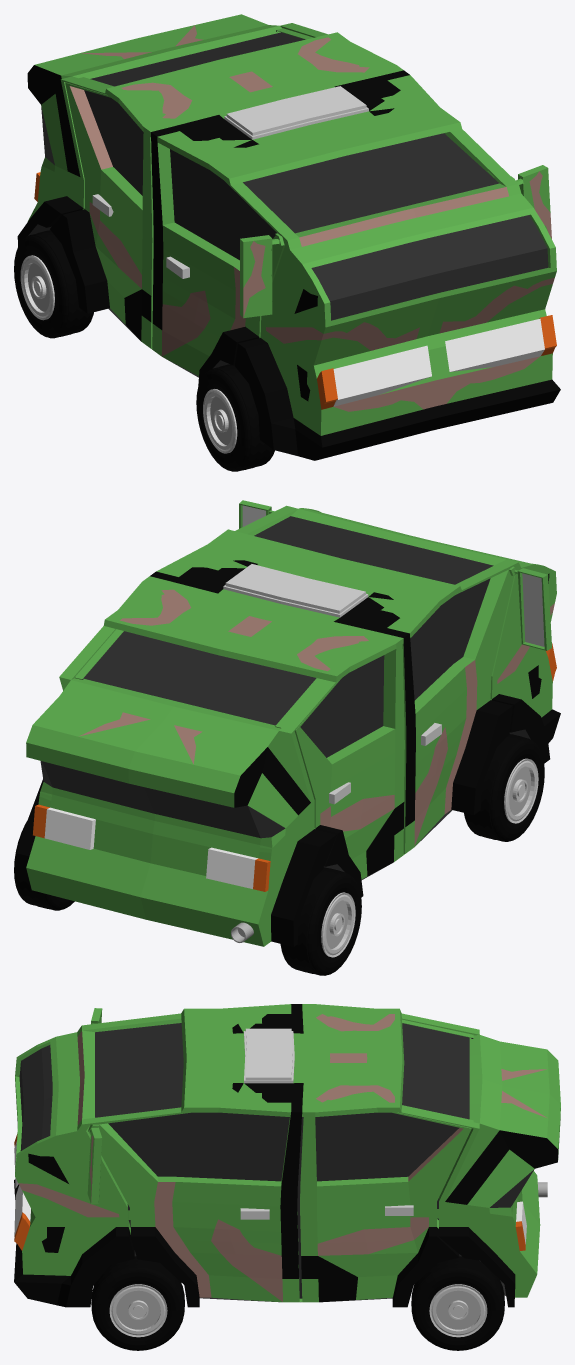
3 renders of one model, top to bottom at view 1: azimuth 30°, elevation 25°; view 2: azimuth 150°, elevation 25°; view 3: azimuth 270°, elevation 25°, orthographic. The views are drawn at different scales.
Parts seen in each view (by area): view 1: BODY40B, WHEEL.004, WHEEL.001; view 2: BODY40B, WHEEL.004, WHEEL.001, WHEEL.002; view 3: BODY40B, WHEEL.002, WHEEL.003.
Boxes of the visible parts, x1,y1,x2,y2 form: BODY40B: (17, 14, 560, 460); WHEEL.004: (14, 230, 93, 338); WHEEL.001: (196, 364, 274, 471); BODY40B: (16, 500, 560, 946); WHEEL.004: (280, 867, 361, 975); WHEEL.001: (464, 734, 544, 841); WHEEL.002: (14, 821, 74, 910); BODY40B: (14, 1004, 560, 1307); WHEEL.002: (411, 1256, 504, 1350); WHEEL.003: (91, 1256, 184, 1350).
Bounding box in the file's own units: 131 × 109 × 229.
